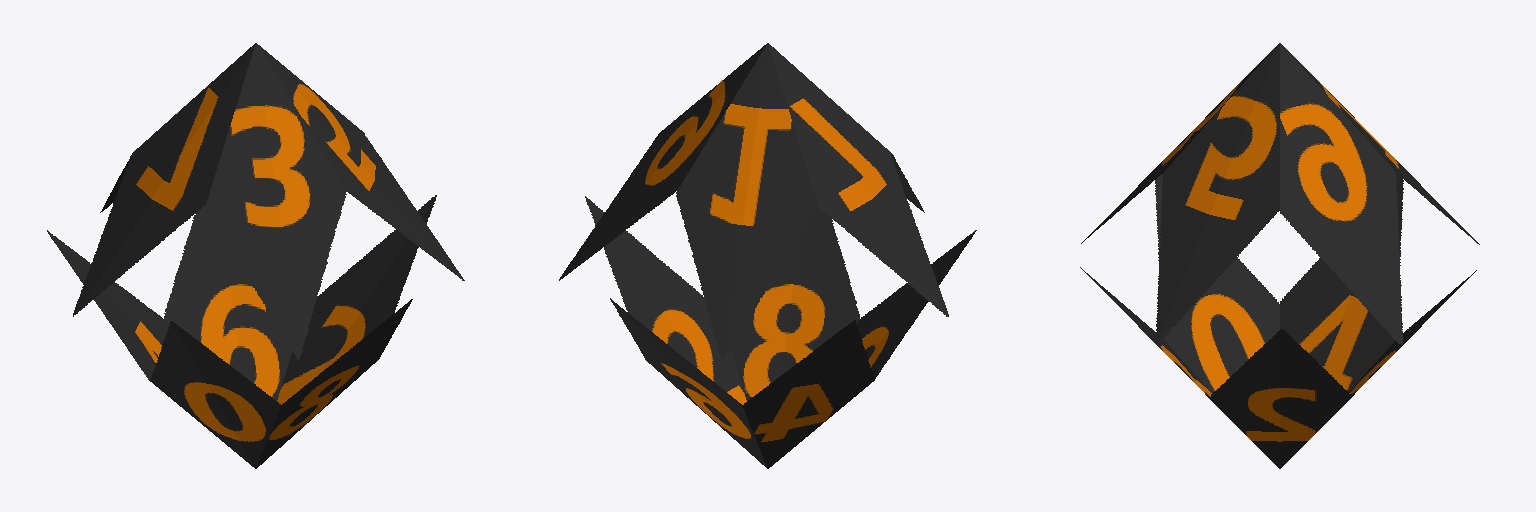
The picture shows the model from 3 angles: view 1: azimuth 30°, elevation 25°; view 2: azimuth 150°, elevation 25°; view 3: azimuth 270°, elevation 25°; orthographic projection.
Visible parts, largest first — view 1: NGon01; view 2: NGon01; view 3: NGon01.
Part boxes in pixels (bbox=[...]): NGon01: bbox=[47, 43, 464, 468]; NGon01: bbox=[559, 43, 976, 468]; NGon01: bbox=[1080, 43, 1479, 468].
Bounding box in the file's own units: 0.68 × 0.76 × 0.6468.
Materials: 1 (1 with a texture image).